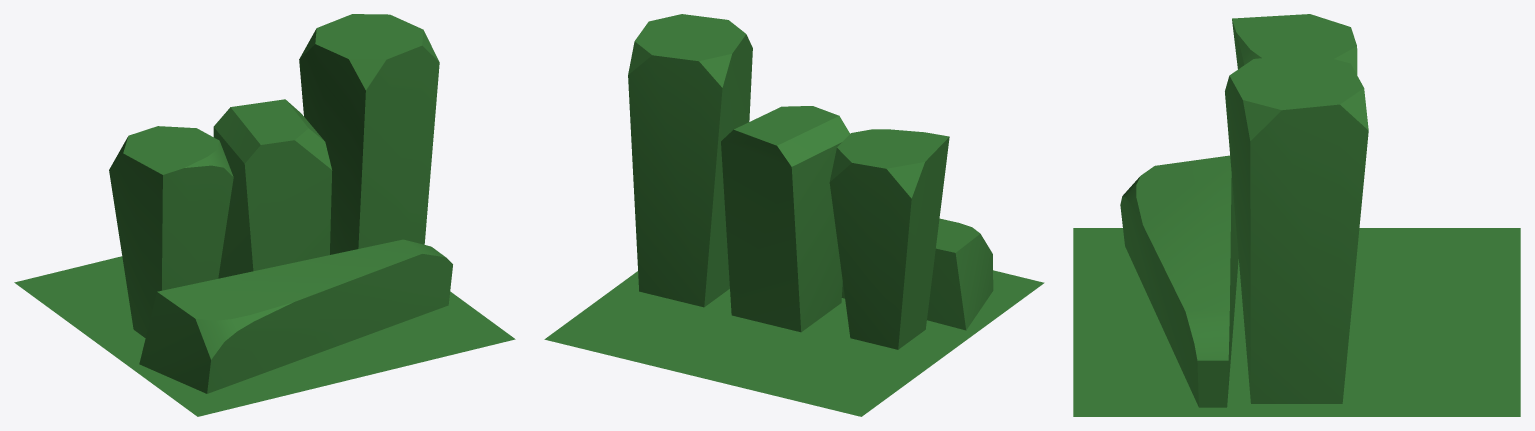
The model's file is OBJ_Barrier_01.FBX.
3 renders of one model, left to right at view 1: azimuth 30°, elevation 25°; view 2: azimuth 150°, elevation 25°; view 3: azimuth 270°, elevation 25°, orthographic. The views are drawn at different scales.
Visible parts, largest first — view 1: OBJ_Barrier_01; view 2: OBJ_Barrier_01; view 3: OBJ_Barrier_01.
Part boxes in pixels (left/top/right/bottom): OBJ_Barrier_01: left=14, top=14, right=515, bottom=416; OBJ_Barrier_01: left=544, top=14, right=1044, bottom=416; OBJ_Barrier_01: left=1073, top=14, right=1520, bottom=416.
Bounding box in the file's own units: 6 × 4.49 × 6.
